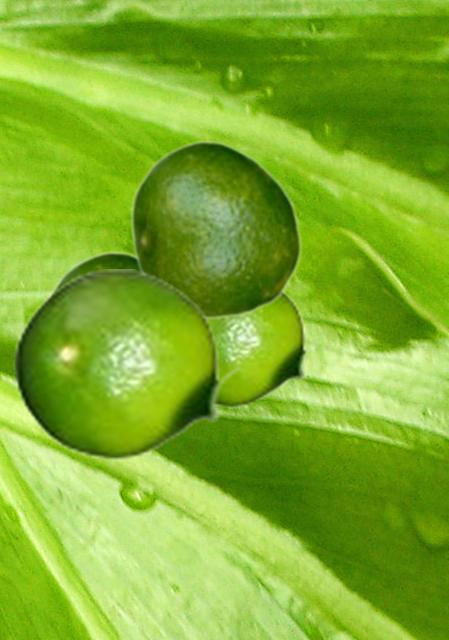calamansi: (12, 269, 243, 460), (129, 139, 302, 319), (211, 289, 322, 407), (45, 250, 137, 296)
